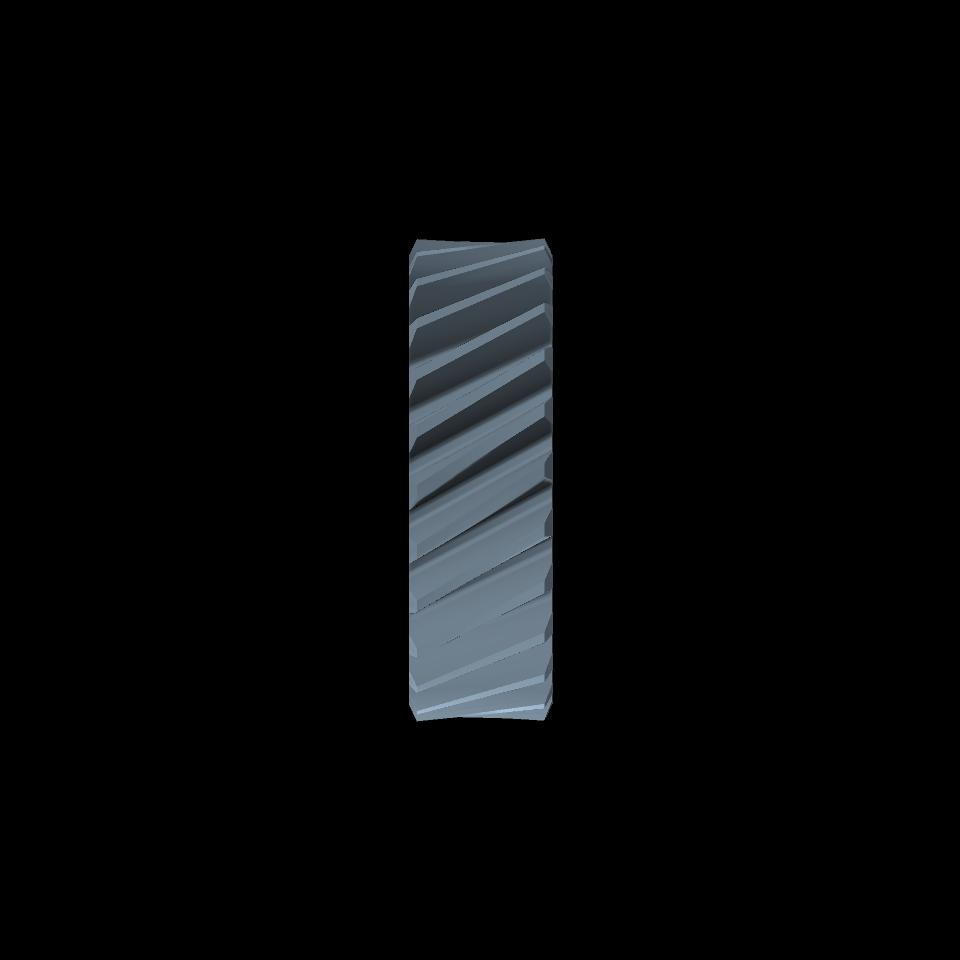Helical: (418, 237, 542, 720)
